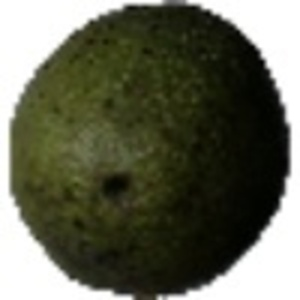abacate: (6, 1, 289, 295)
